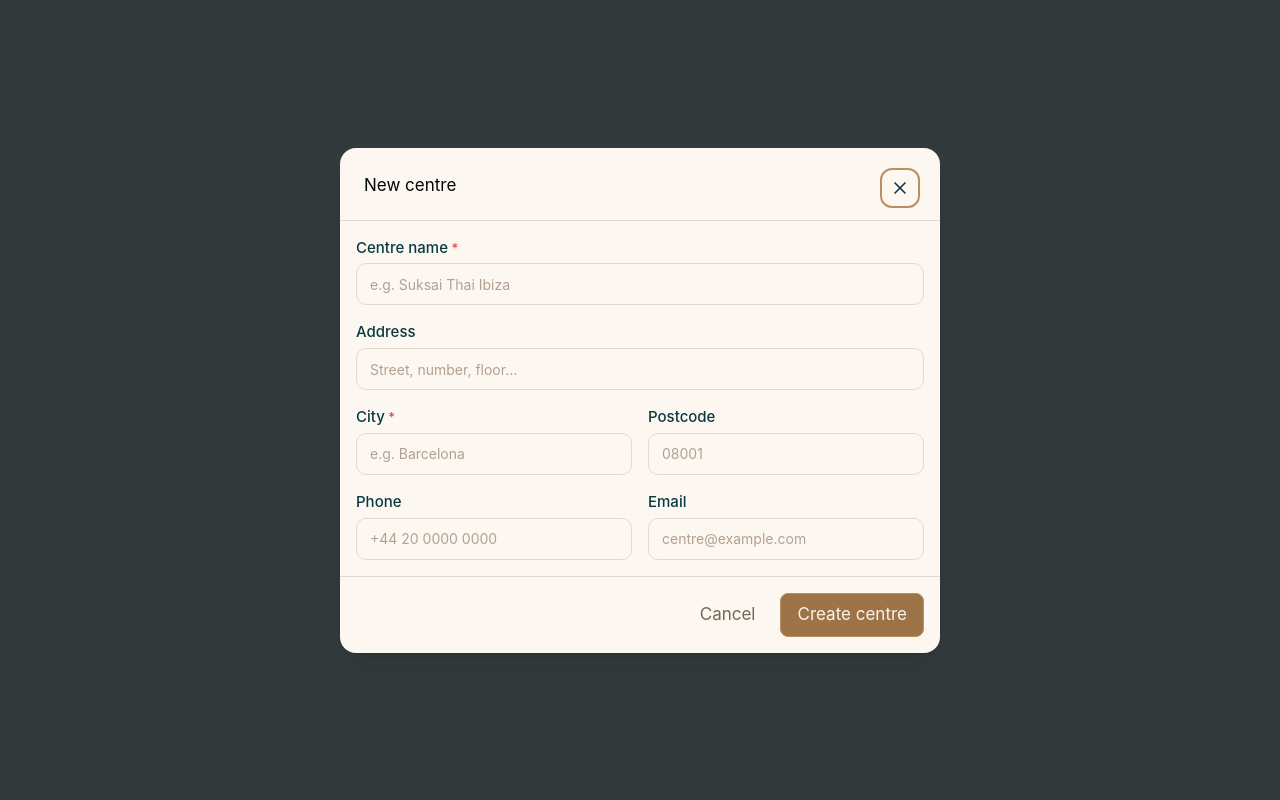
Test: CentroModal — validation › shows error banner when ciudad is empty on submit
Type "Centro Test" into the field labelled "Centre name".
click(640, 284); type("Centro Test")  # box [356, 263, 924, 305]
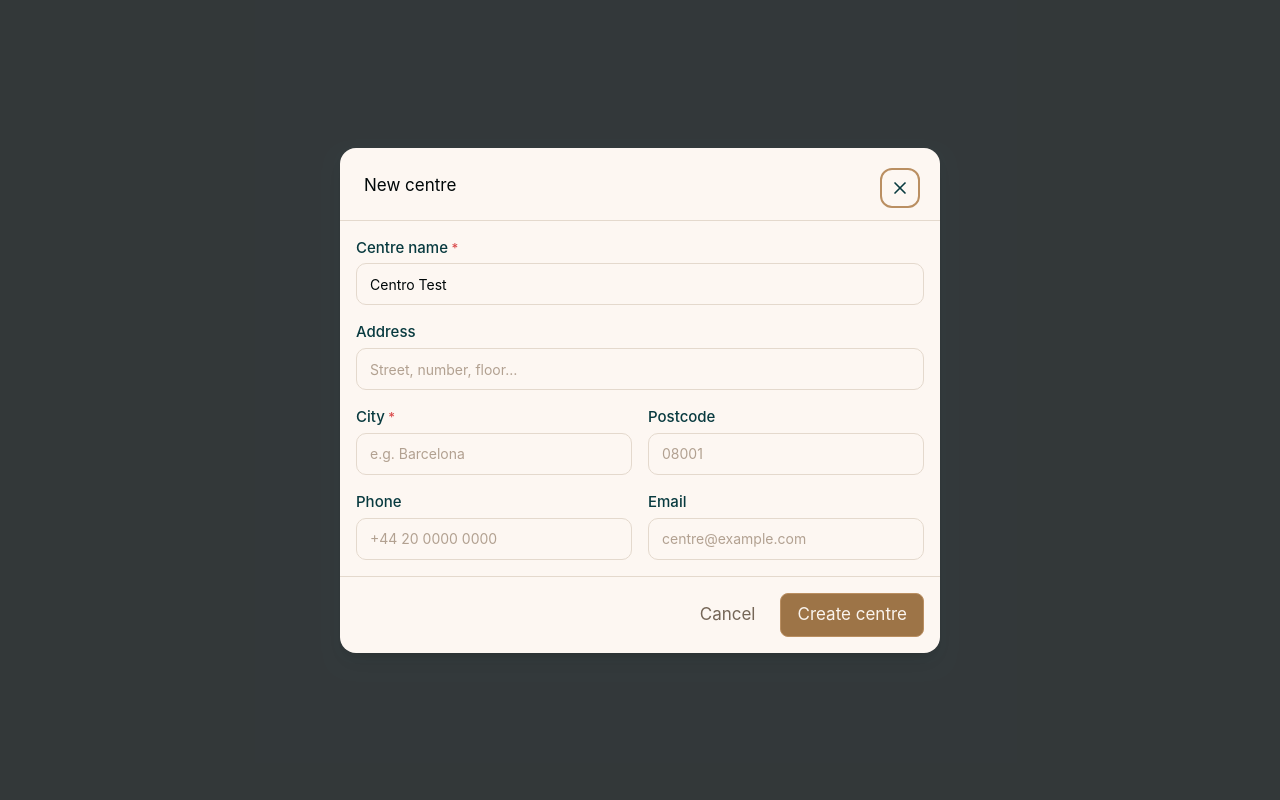
Click the button "Create centre".
click(852, 614)  # box [780, 592, 924, 636]
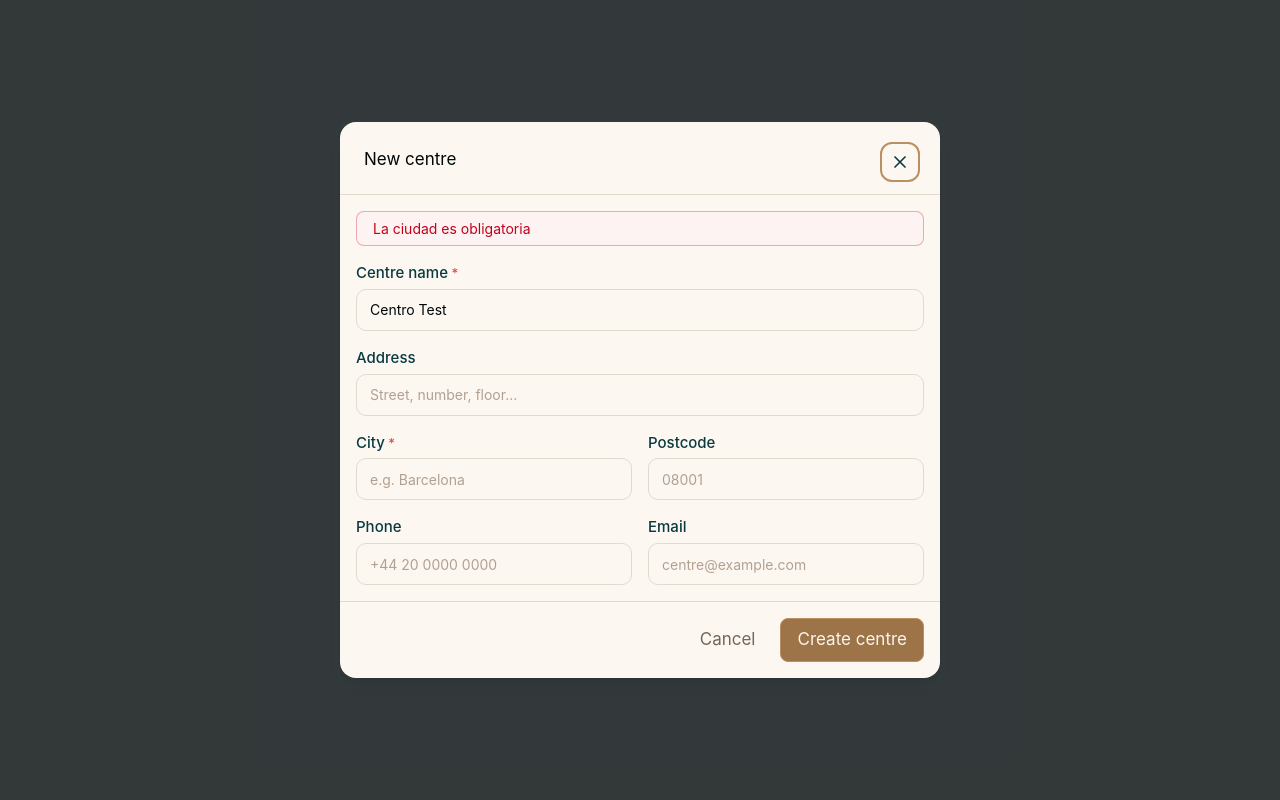
Check: the message "La ciudad es obligatoria" is shown, box [356, 211, 924, 246]
